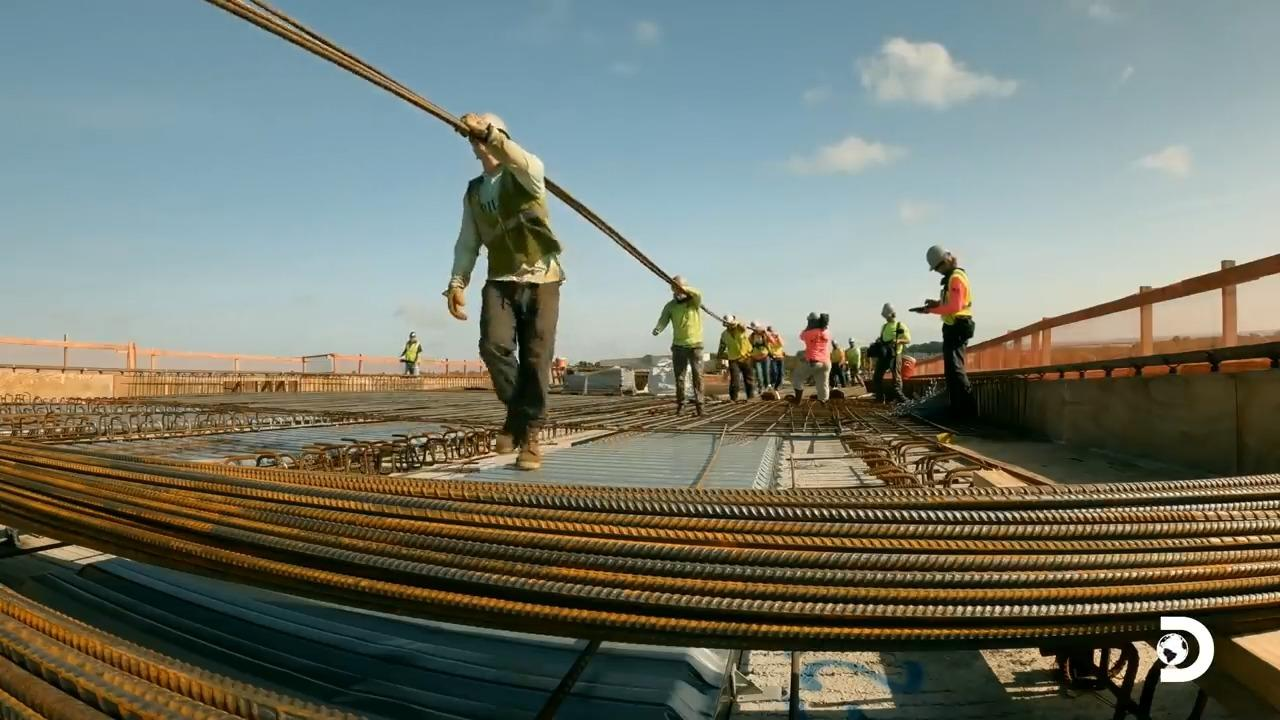Gloves: (443, 283, 469, 324), (458, 112, 484, 137)
Helmet: (459, 93, 519, 151), (659, 274, 695, 300), (926, 244, 949, 271), (881, 302, 895, 318), (724, 313, 738, 325), (807, 312, 820, 322)
Person: (443, 111, 565, 470), (909, 244, 977, 421), (660, 272, 714, 415), (797, 307, 843, 408), (868, 302, 911, 403), (714, 309, 756, 405), (398, 330, 421, 375)
Safety Boot: (516, 425, 547, 468), (494, 427, 516, 454), (693, 403, 708, 418), (675, 404, 686, 415)
Safety Vest: (473, 190, 556, 269), (942, 281, 973, 326), (807, 332, 831, 360), (725, 335, 743, 358), (886, 327, 901, 354), (404, 346, 421, 363)
no-vest: (673, 309, 698, 343)
